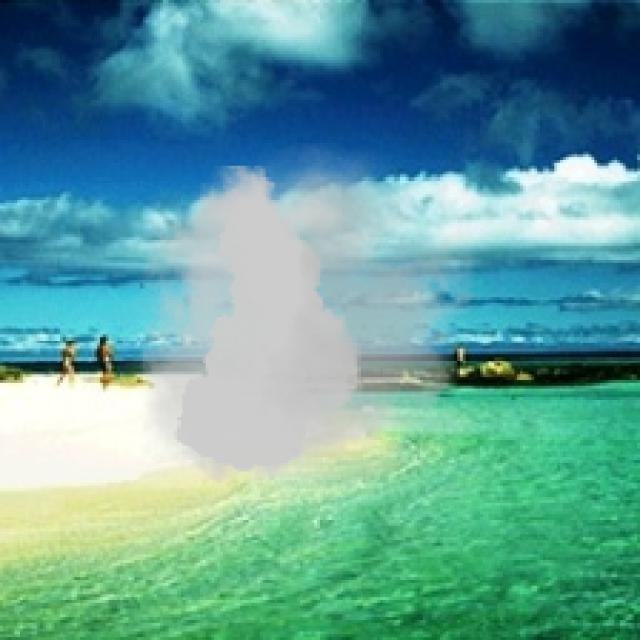Smoke: (112, 142, 497, 494)
